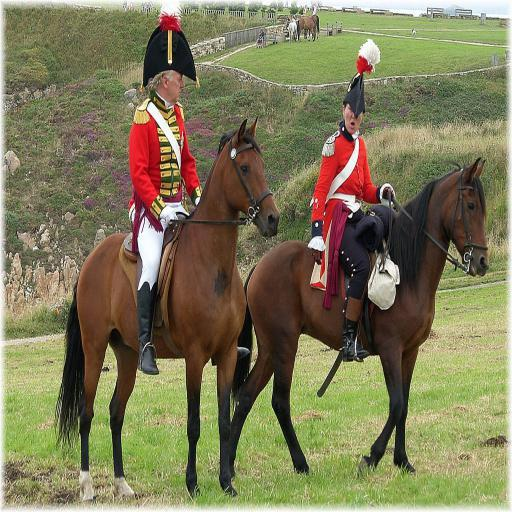Horse: (52, 114, 282, 500), (226, 156, 490, 482)
